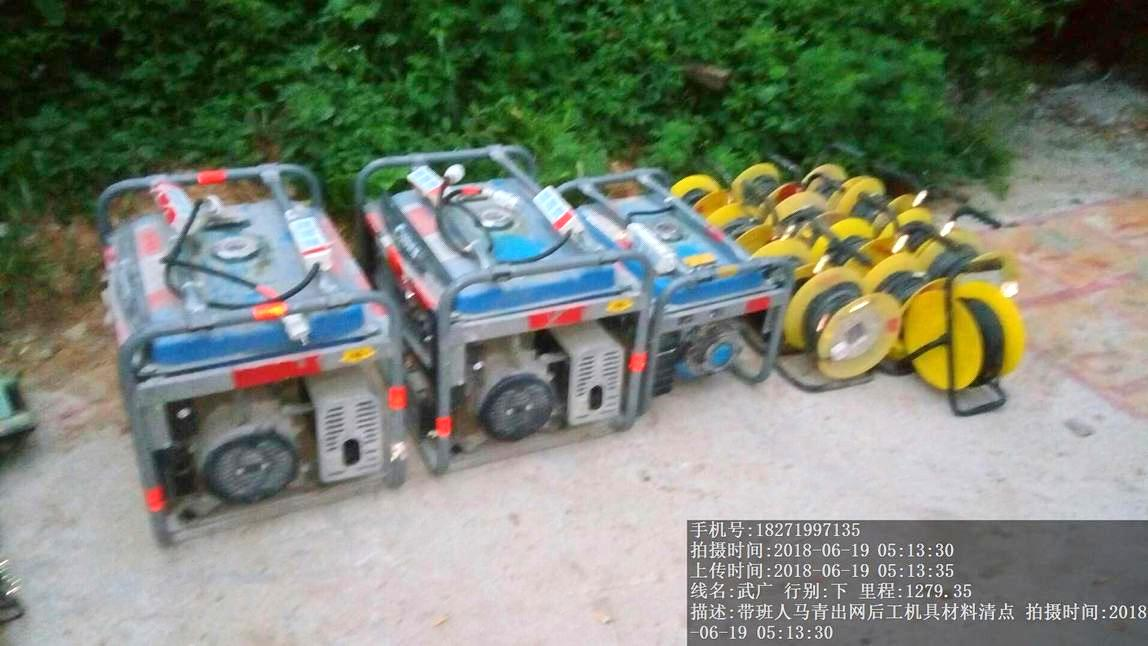DJ: (89, 171, 409, 530), (371, 149, 649, 448)
DX: (906, 276, 1032, 423)
